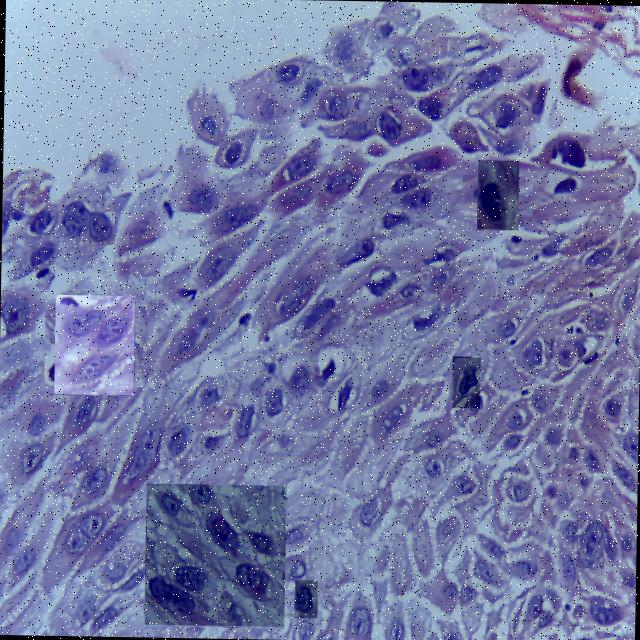Multiple Nucleol: (452, 357, 480, 407), (576, 520, 603, 568), (295, 580, 317, 618), (89, 212, 113, 244)
Nuclear Hyperchromatism: (144, 484, 284, 625), (55, 296, 134, 394), (478, 161, 518, 229)
